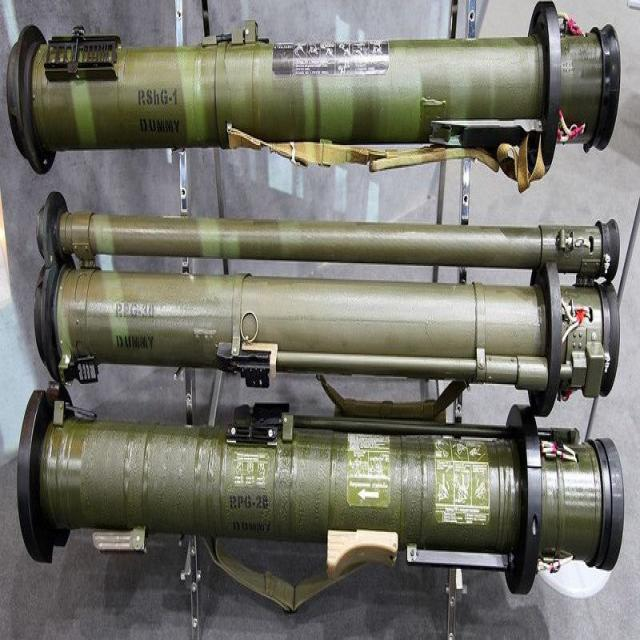bazooka: (8, 18, 640, 610)
